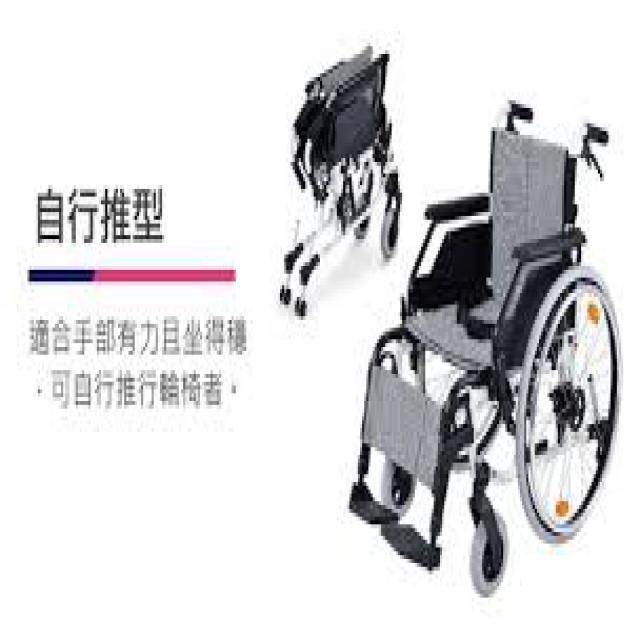wheelchair: (337, 97, 634, 606)
